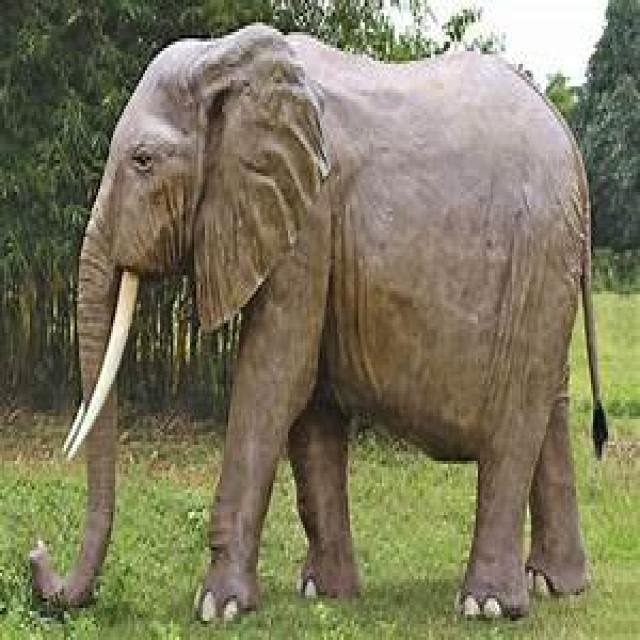elephant: (34, 22, 610, 624)
